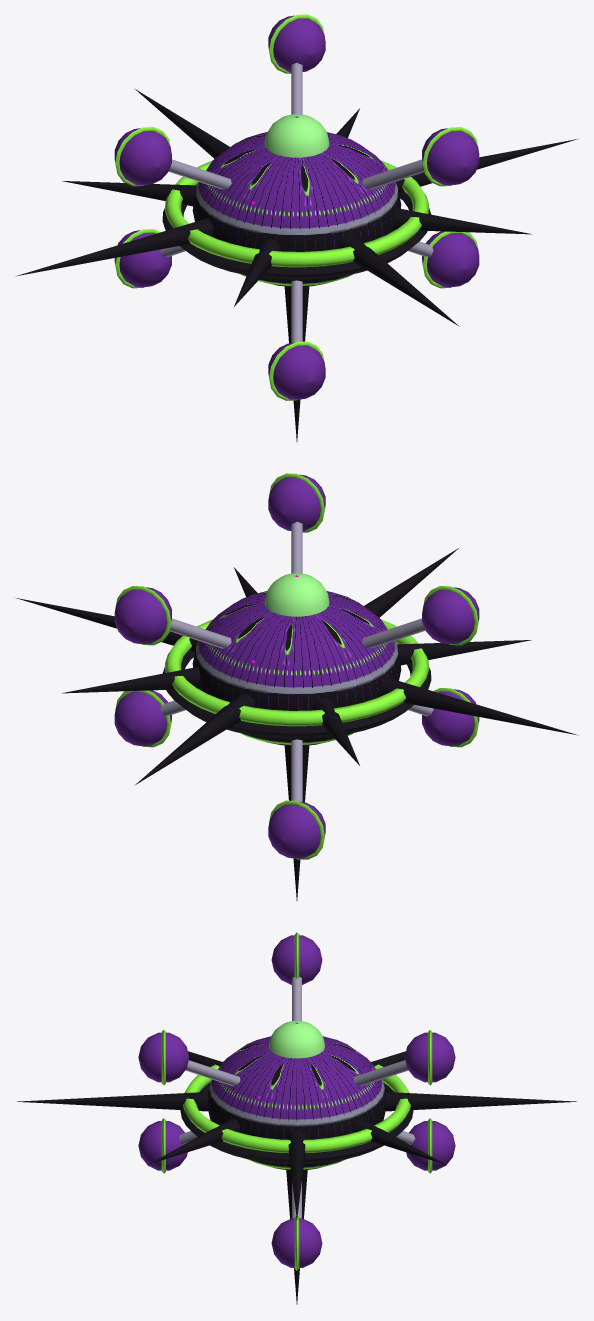
The model's file is dominion_outpost.obj.
3 renders of one model, top to bottom at view 1: azimuth 30°, elevation 25°; view 2: azimuth 150°, elevation 25°; view 3: azimuth 270°, elevation 25°, orthographic. The views are drawn at different scales.
Visible parts, largest first — view 1: hub, pod, spike, glow_ring, strut, ring_frame, pod_band, crown; view 2: hub, pod, spike, glow_ring, strut, ring_frame, pod_band, crown; view 3: hub, pod, spike, glow_ring, strut, ring_frame, crown, pod_band.
Part boxes in pixels (x1,y1,x2,y2): hub: (192, 132, 401, 286); pod: (114, 15, 479, 399); spike: (16, 88, 577, 441); glow_ring: (165, 160, 428, 267); strut: (160, 63, 433, 342); ring_frame: (162, 191, 431, 279); pod_band: (115, 14, 478, 400); crown: (264, 114, 329, 157); hub: (192, 591, 401, 745); pod: (114, 474, 479, 858); spike: (16, 547, 577, 900); glow_ring: (165, 619, 428, 726); strut: (160, 522, 433, 801); ring_frame: (162, 650, 431, 738); pod_band: (115, 473, 478, 859); crown: (264, 573, 329, 616); hub: (207, 1036, 386, 1170); pod: (138, 935, 455, 1267); spike: (17, 1051, 576, 1304); glow_ring: (183, 1061, 410, 1153); strut: (178, 977, 415, 1218); ring_frame: (180, 1082, 413, 1163); crown: (268, 1021, 325, 1058); pod_band: (161, 932, 432, 1270).
Size of the model in its own units: 200 by 120 by 200.
Materials: 7 (1 with a texture image).
